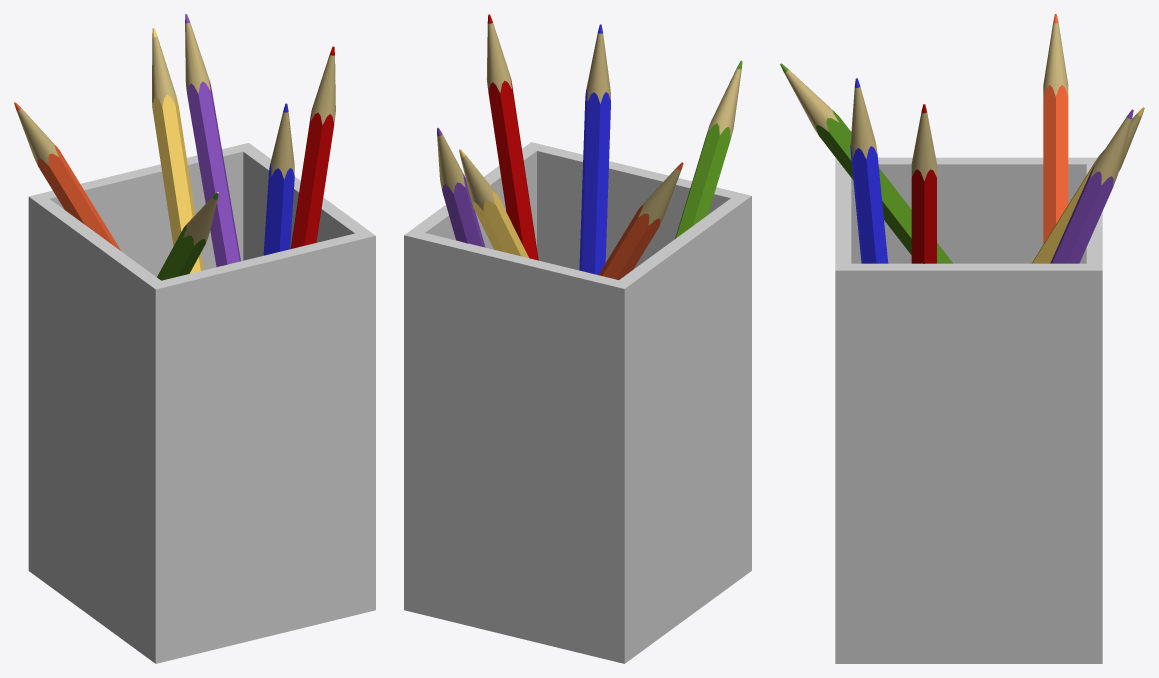
Rendered from SM_PencilsFBX.fbx.
The picture shows the model from 3 angles, left to right: view 1: azimuth 30°, elevation 25°; view 2: azimuth 150°, elevation 25°; view 3: azimuth 270°, elevation 25°; orthographic projection. The views are drawn at different scales.
Visible parts, largest first — view 1: Group_001, Group_006, Group_005, Group_002, Group_003, Group_007, Group_004; view 2: Group_001, Group_007, Group_002, Group_004, Group_003, Group_005, Group_006; view 3: Group_001, Group_003, Group_007, Group_004, Group_006, Group_002, Group_005.
Part boxes in pixels (bbox=[...]): Group_001: bbox=[28, 143, 375, 663]; Group_006: bbox=[185, 14, 240, 266]; Group_005: bbox=[152, 28, 203, 273]; Group_002: bbox=[290, 46, 335, 248]; Group_003: bbox=[14, 102, 121, 251]; Group_007: bbox=[263, 103, 294, 255]; Group_004: bbox=[157, 192, 218, 280]; Group_001: bbox=[404, 142, 751, 663]; Group_007: bbox=[579, 24, 610, 274]; Group_002: bbox=[486, 14, 538, 260]; Group_004: bbox=[675, 60, 742, 238]; Group_003: bbox=[598, 161, 683, 279]; Group_005: bbox=[459, 149, 528, 257]; Group_006: bbox=[437, 127, 485, 247]; Group_001: bbox=[835, 157, 1102, 663]; Group_003: bbox=[1043, 14, 1068, 243]; Group_007: bbox=[850, 77, 888, 263]; Group_004: bbox=[780, 63, 952, 263]; Group_006: bbox=[1050, 109, 1133, 263]; Group_002: bbox=[911, 103, 936, 263]; Group_005: bbox=[1031, 107, 1144, 263].
Size of the model in its own units: 3.69 by 7.29 by 4.3.
